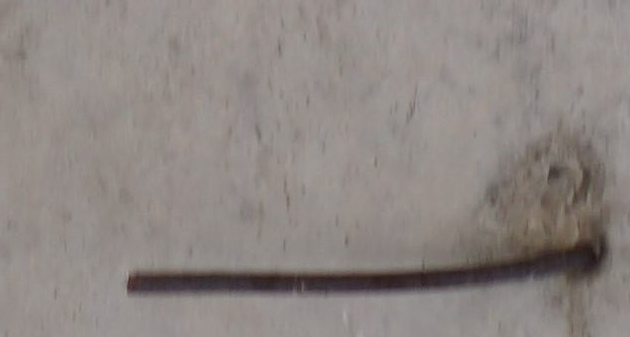Exposed reinforcement: (126, 239, 597, 294)
Spalling: (476, 131, 608, 231)
